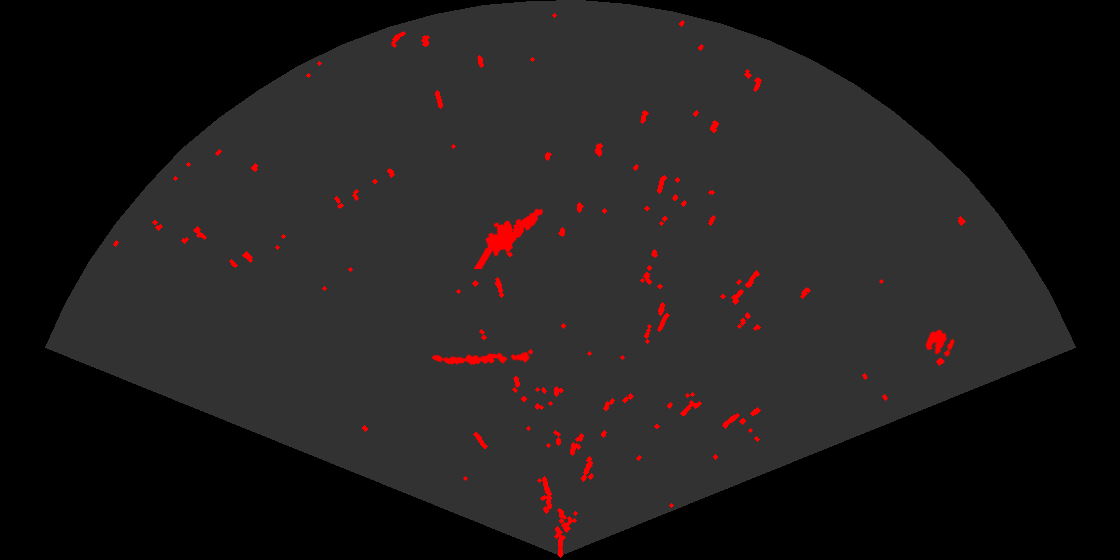ball: (924, 328, 956, 358)
chain: (430, 350, 531, 366)
frogman: (474, 207, 545, 269)
